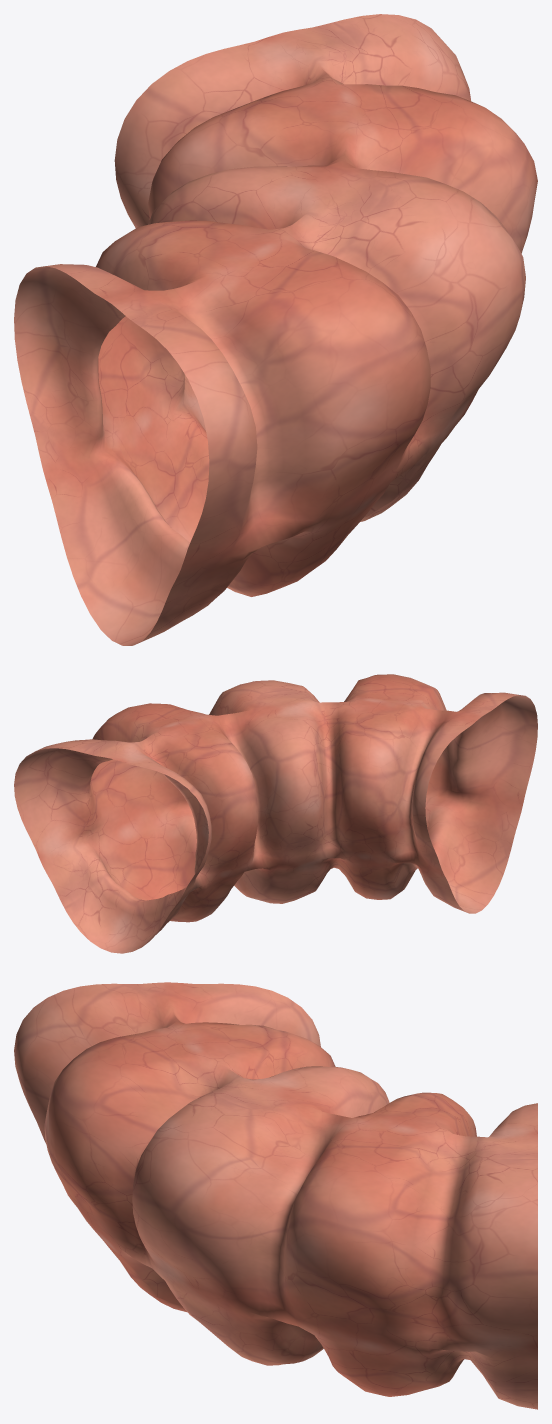
Rendered from Colon_Curve_R.fbx.
3 views of the same model, one above another, from view 1: azimuth 30°, elevation 25°; view 2: azimuth 150°, elevation 25°; view 3: azimuth 270°, elevation 25° (orthographic). The views are drawn at different scales.
Visible parts, largest first — view 1: Colon_Curve_R; view 2: Colon_Curve_R; view 3: Colon_Curve_R.
Boxes of the visible parts, left/top/right/bottom form: Colon_Curve_R: left=14, top=14, right=537, bottom=645; Colon_Curve_R: left=14, top=674, right=537, bottom=953; Colon_Curve_R: left=14, top=982, right=537, bottom=1409.
Size of the model in its own units: 7.21 by 4.08 by 7.21.
